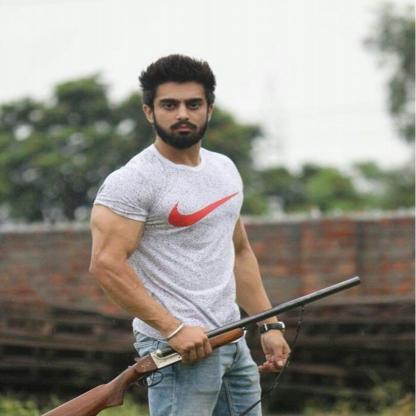rifle: (40, 274, 364, 416)
